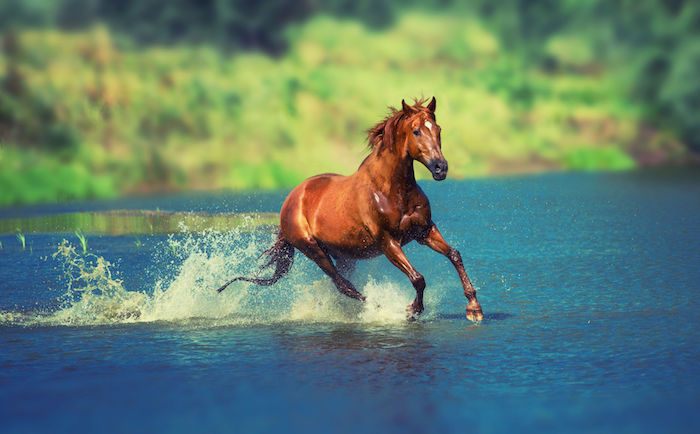horse: (266, 95, 479, 318)
